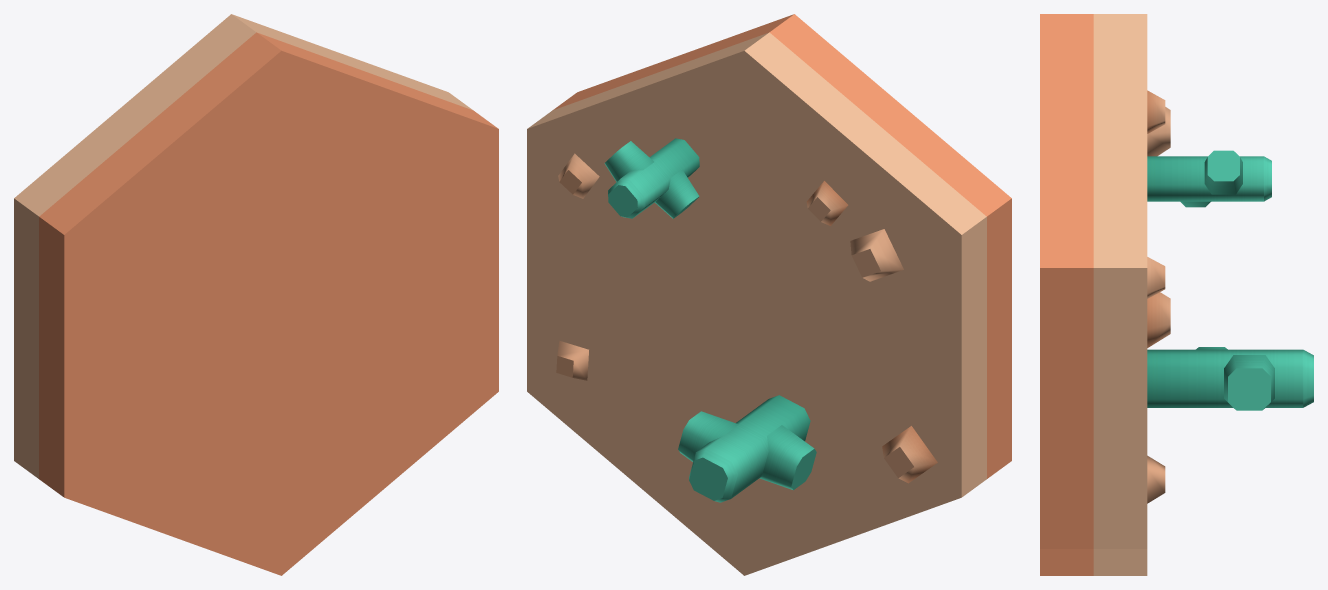
Rendered from sand-desert.obj.
The picture shows the model from 3 angles, left to right: view 1: azimuth 30°, elevation 25°; view 2: azimuth 150°, elevation 25°; view 3: azimuth 270°, elevation 25°; orthographic projection. The views are drawn at different scales.
Visible parts, largest first — view 1: sand-desert.004; view 2: sand-desert.004; view 3: sand-desert.004.
Boxes of the visible parts, left/top/right/bottom form: sand-desert.004: left=14, top=14, right=498, bottom=575; sand-desert.004: left=527, top=14, right=1011, bottom=575; sand-desert.004: left=1040, top=14, right=1313, bottom=575.
Bounding box in the file's own units: 1 × 1.15 × 0.51.
Materials: 1 (1 with a texture image).
